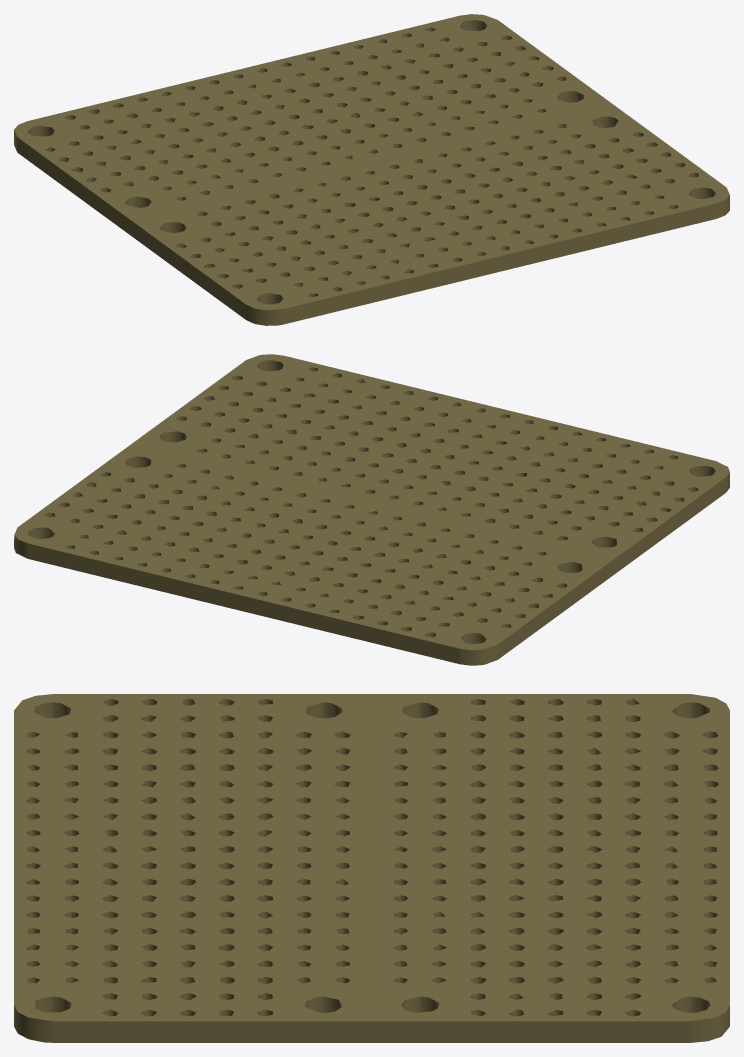
Rendered from ada-2890.glb.
The picture shows the model from 3 angles, top to bottom: view 1: azimuth 30°, elevation 25°; view 2: azimuth 150°, elevation 25°; view 3: azimuth 270°, elevation 25°; orthographic projection. The views are drawn at different scales.
Visible parts, largest first — view 1: 0.16666666666666666_0.16666666666666666_0.08333333333333333_; view 2: 0.16666666666666666_0.16666666666666666_0.08333333333333333_; view 3: 0.16666666666666666_0.16666666666666666_0.08333333333333333_.
Boxes of the visible parts, x1,y1,x2,y2 form: 0.16666666666666666_0.16666666666666666_0.08333333333333333_: [14, 14, 729, 325]; 0.16666666666666666_0.16666666666666666_0.08333333333333333_: [14, 354, 729, 665]; 0.16666666666666666_0.16666666666666666_0.08333333333333333_: [14, 694, 729, 1042].
Bounding box in the file's own units: 5.08 × 0.1569 × 4.7.
